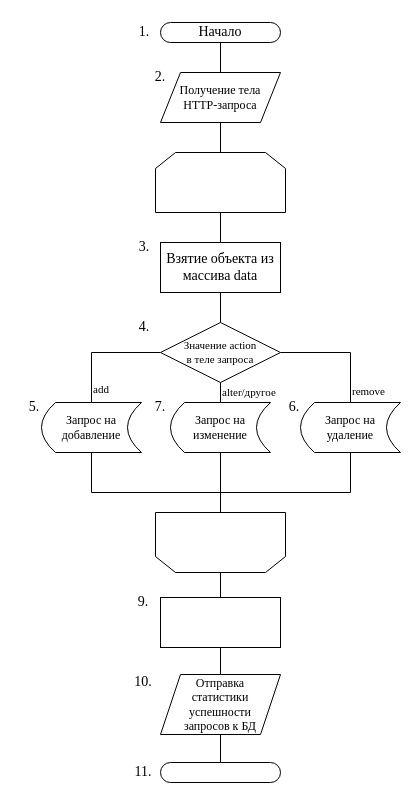
Some shapes in this 418 by 804 pixel diagram are drawn without their labels. The centre of each missing label's shape, as x and y in pixels:
"Конец" belongs at [220,772].
"Перебор объектов" belongs at [220,542].
"Перебор объектов, пока не пройден массив data" belongs at [220,182].
"Установка отметок об устаревании кэша" belongs at [220,622].
